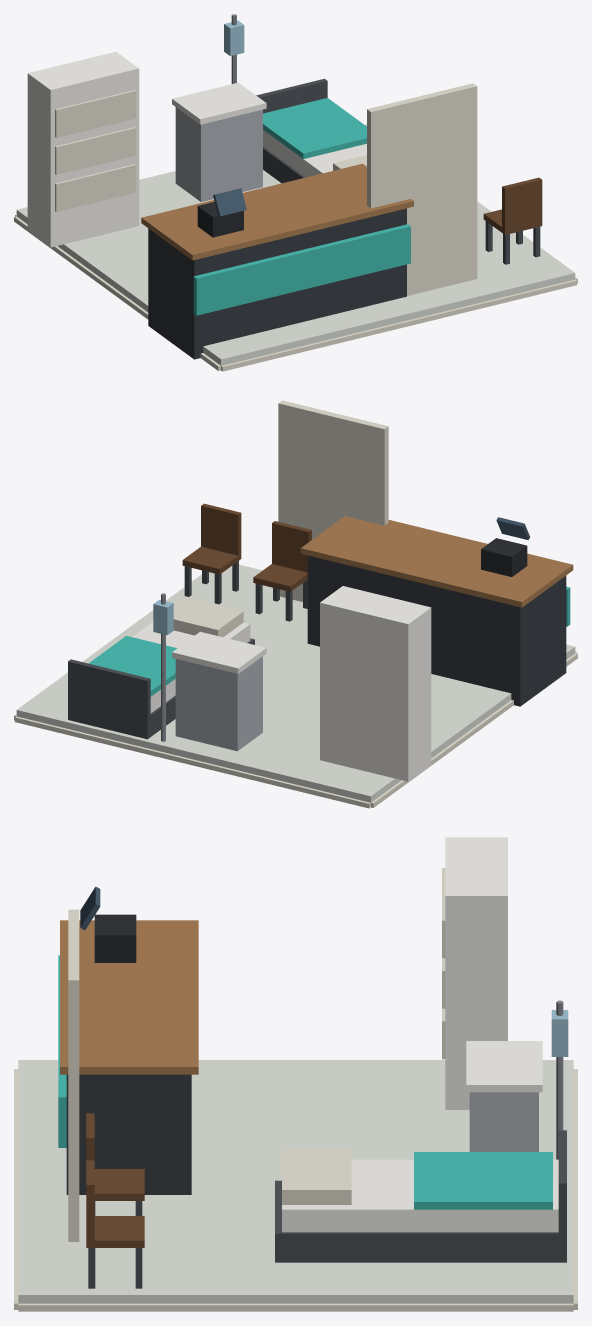
The model's file is interior.clinic.glb.
3 renders of one model, top to bottom at view 1: azimuth 30°, elevation 25°; view 2: azimuth 150°, elevation 25°; view 3: azimuth 270°, elevation 25°, orthographic. The views are drawn at different scales.
Parts seen in each view (by area): view 1: interior.clinic; view 2: interior.clinic; view 3: interior.clinic.
Part boxes in pixels (x1,y1,x2,y2): interior.clinic: (14,14,577,371); interior.clinic: (14,400,577,808); interior.clinic: (14,837,577,1311).
Bounding box in the file's own units: 4.18 × 2.2 × 4.06.
